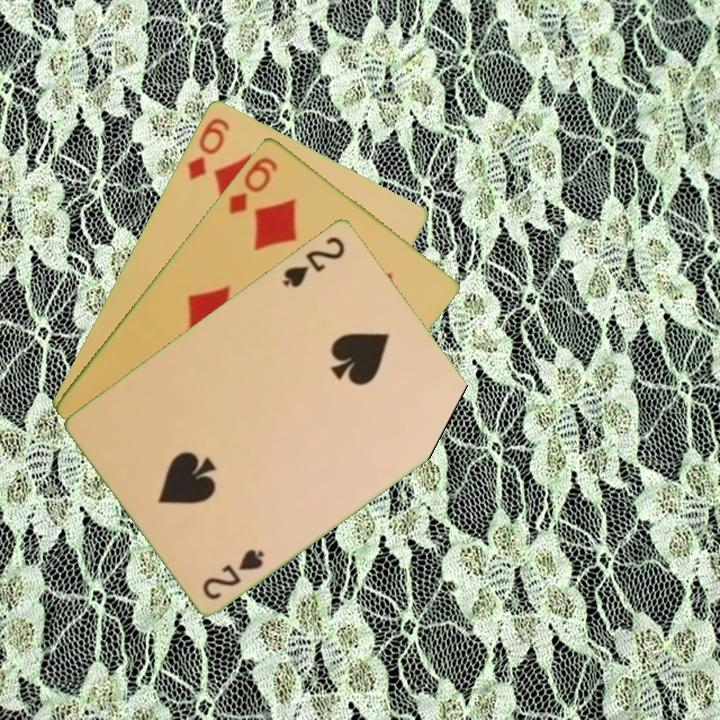2s: (278, 232, 348, 290), (199, 544, 267, 603)
6d: (225, 152, 281, 217), (183, 113, 233, 183)
